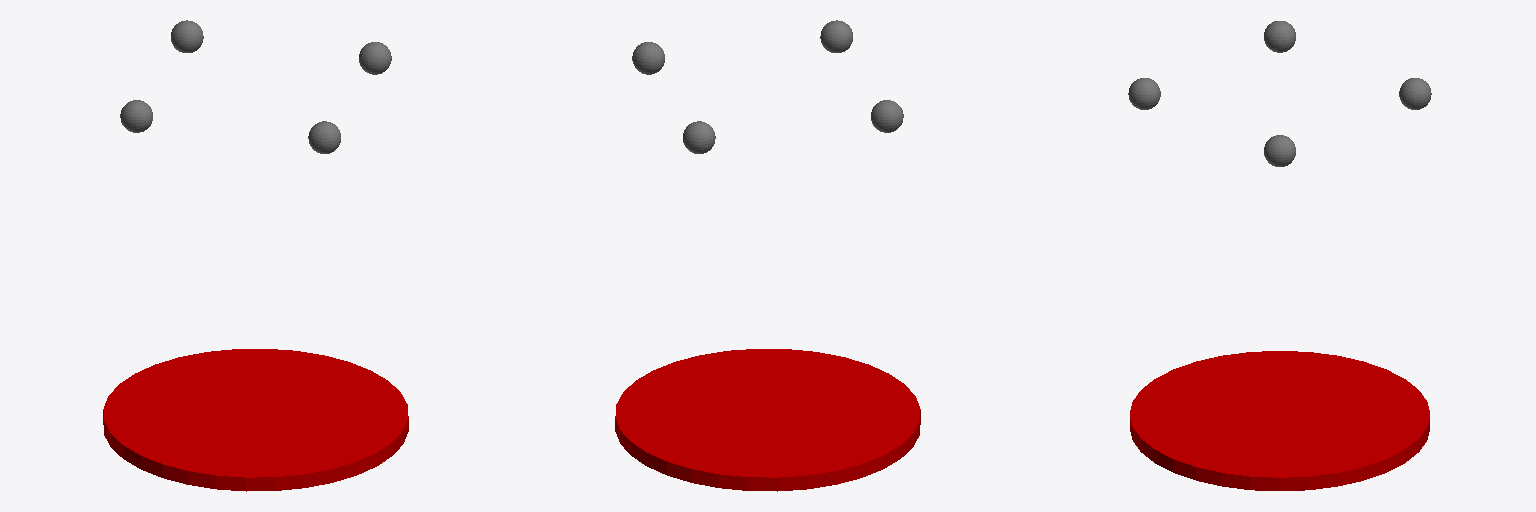
The robot description file, URDF, robot "robot":
<robot name="robot">

    <link name="base_link">
        <visual>
            <geometry>
                <cylinder length="0.05" radius="0.5"/>
            </geometry>
            <material name="red">
                <color rgba="0.8 0 0 0.6"/>
            </material>
            <origin rpy="0 0 0" xyz="0. 0 0"/>
        </visual>
        <collision>
            <geometry>
                <cylinder length="0.05" radius="0.5"/>
            </geometry>
            <origin rpy="0 0 0" xyz="0. 0 0"/>
        </collision>
        <inertial>
            <mass value="1."/>
            <inertia ixx="0.1" ixy="0.0" ixz="0.0" iyy="0.1" iyz="0.0" izz="0.1"/>
        </inertial>
    </link>
    
    <link name="f1_link1">
        <visual>
            <geometry>
                <capsule length="0.2" radius="0.05"/>
            </geometry>
            <material name="red">
                <color rgba="0.8 0 0 1"/>
            </material>
            <origin rpy="0 0 0" xyz="0 0 0.1"/>
        </visual>
        <collision>
            <geometry>
                <capsule length="0.2" radius="0.05"/>
            </geometry>
            <origin rpy="0 0 0" xyz="0 0 0.1"/>
        </collision>
        <inertial>
            <mass value="1."/>
            <inertia ixx="1.0" ixy="0.0" ixz="0.0" iyy="1.0" iyz="0.0" izz="1.0"/>
        </inertial>
    </link>
    
    <link name="f1_link2">
        <visual>
            <geometry>
                <capsule length="0.5" radius="0.05"/>
            </geometry>
            <material name="green">
                <color rgba="0 0.8 0 1"/>
            </material>
            <origin rpy="0 0 0" xyz="0 0 0.25"/>
        </visual>
        <collision>
            <geometry>
                <capsule length="0.5" radius="0.05"/>
            </geometry>
            <origin rpy="0 0 0" xyz="0 0 0.25"/>
        </collision>
        <inertial>
            <mass value="1."/>
            <inertia ixx="1.0" ixy="0.0" ixz="0.0" iyy="1.0" iyz="0.0" izz="1.0"/>
        </inertial>
    </link>

    <link name="f1_link3">
        <visual>
            <geometry>
                <capsule length="0.5" radius="0.05"/>
            </geometry>
            <material name="blue">
                <color rgba="0 0 0.8 1"/>
            </material>
            <origin rpy="0 0 0" xyz="0 0 0.25"/>
        </visual>
        <collision>
            <geometry>
                <capsule length="0.5" radius="0.05"/>
            </geometry>
            <origin rpy="0 0 0" xyz="0 0 0.25"/>
        </collision>
        <inertial>
            <mass value="1."/>
            <inertia ixx="1.0" ixy="0.0" ixz="0.0" iyy="1.0" iyz="0.0" izz="1.0"/>
        </inertial>
    </link>

    <link name="f1_eePoint">
        <visual>
            <geometry>
                <sphere  radius="0.054"/>
            </geometry>
            <material name="grey">
                <color rgba="0.5 0.5 0.5 1"/>
            </material>
            <origin rpy="0 0 0" xyz="0 0 0.0"/>
        </visual>
        <collision>
            <geometry>
                <sphere radius="0.054"/>
            </geometry>
            <origin rpy="0 0 0" xyz="0 0 0.0"/>
        </collision>
        <inertial>
            <mass value="0.001"/>
            <inertia ixx="1.0" ixy="0.0" ixz="0.0" iyy="1.0" iyz="0.0" izz="1.0"/>
        </inertial>
    </link>

    <link name="f2_link1">
        <visual>
            <geometry>
                <capsule length="0.2" radius="0.05"/>
            </geometry>
            <material name="red">
                <color rgba="0.8 0 0 1"/>
            </material>
            <origin rpy="0 0 0" xyz="0 0 0.1"/>
        </visual>
        <collision>
            <geometry>
                <capsule length="0.2" radius="0.05"/>
            </geometry>
            <origin rpy="0 0 0" xyz="0 0 0.1"/>
        </collision>
        <inertial>
            <mass value="1."/>
            <inertia ixx="1.0" ixy="0.0" ixz="0.0" iyy="1.0" iyz="0.0" izz="1.0"/>
        </inertial>
    </link>
    
    <link name="f2_link2">
        <visual>
            <geometry>
                <capsule length="0.5" radius="0.05"/>
            </geometry>
            <material name="green">
                <color rgba="0 0.8 0 1"/>
            </material>
            <origin rpy="0 0 0" xyz="0 0 0.25"/>
        </visual>
        <collision>
            <geometry>
                <capsule length="0.5" radius="0.05"/>
            </geometry>
            <origin rpy="0 0 0" xyz="0 0 0.25"/>
        </collision>
        <inertial>
            <mass value="1."/>
            <inertia ixx="1.0" ixy="0.0" ixz="0.0" iyy="1.0" iyz="0.0" izz="1.0"/>
        </inertial>
    </link>

    <link name="f2_link3">
        <visual>
            <geometry>
                <capsule length="0.5" radius="0.05"/>
            </geometry>
            <material name="blue">
                <color rgba="0 0 0.8 1"/>
            </material>
            <origin rpy="0 0 0" xyz="0 0 0.25"/>
        </visual>
        <collision>
            <geometry>
                <capsule length="0.5" radius="0.05"/>
            </geometry>
            <origin rpy="0 0 0" xyz="0 0 0.25"/>
        </collision>
        <inertial>
            <mass value="1."/>
            <inertia ixx="1.0" ixy="0.0" ixz="0.0" iyy="1.0" iyz="0.0" izz="1.0"/>
        </inertial>
    </link>

    <link name="f2_eePoint">
        <visual>
            <geometry>
                <sphere  radius="0.054"/>
            </geometry>
            <material name="grey">
                <color rgba="0.5 0.5 0.5 1"/>
            </material>
            <origin rpy="0 0 0" xyz="0 0 0.0"/>
        </visual>
        <collision>
            <geometry>
                <sphere radius="0.054"/>
            </geometry>
            <origin rpy="0 0 0" xyz="0 0 0.0"/>
        </collision>
        <inertial>
            <mass value="0.001"/>
            <inertia ixx="1.0" ixy="0.0" ixz="0.0" iyy="1.0" iyz="0.0" izz="1.0"/>
        </inertial>
    </link>

    <link name="f3_link1">
        <visual>
            <geometry>
                <capsule length="0.2" radius="0.05"/>
            </geometry>
            <material name="red">
                <color rgba="0.8 0 0 1"/>
            </material>
            <origin rpy="0 0 0" xyz="0 0 0.1"/>
        </visual>
        <collision>
            <geometry>
                <capsule length="0.2" radius="0.05"/>
            </geometry>
            <origin rpy="0 0 0" xyz="0 0 0.1"/>
        </collision>
        <inertial>
            <mass value="1."/>
            <inertia ixx="1.0" ixy="0.0" ixz="0.0" iyy="1.0" iyz="0.0" izz="1.0"/>
        </inertial>
    </link>
    
    <link name="f3_link2">
        <visual>
            <geometry>
                <capsule length="0.5" radius="0.05"/>
            </geometry>
            <material name="green">
                <color rgba="0 0.8 0 1"/>
            </material>
            <origin rpy="0 0 0" xyz="0 0 0.25"/>
        </visual>
        <collision>
            <geometry>
                <capsule length="0.5" radius="0.05"/>
            </geometry>
            <origin rpy="0 0 0" xyz="0 0 0.25"/>
        </collision>
        <inertial>
            <mass value="1."/>
            <inertia ixx="1.0" ixy="0.0" ixz="0.0" iyy="1.0" iyz="0.0" izz="1.0"/>
        </inertial>
    </link>

    <link name="f3_link3">
        <visual>
            <geometry>
                <capsule length="0.5" radius="0.05"/>
            </geometry>
            <material name="blue">
                <color rgba="0 0 0.8 1"/>
            </material>
            <origin rpy="0 0 0" xyz="0 0 0.25"/>
        </visual>
        <collision>
            <geometry>
                <capsule length="0.5" radius="0.05"/>
            </geometry>
            <origin rpy="0 0 0" xyz="0 0 0.25"/>
        </collision>
        <inertial>
            <mass value="1."/>
            <inertia ixx="1.0" ixy="0.0" ixz="0.0" iyy="1.0" iyz="0.0" izz="1.0"/>
        </inertial>
    </link>

    <link name="f3_eePoint">
        <visual>
            <geometry>
                <sphere  radius="0.054"/>
            </geometry>
            <material name="grey">
                <color rgba="0.5 0.5 0.5 1"/>
            </material>
            <origin rpy="0 0 0" xyz="0 0 0.0"/>
        </visual>
        <collision>
            <geometry>
                <sphere radius="0.054"/>
            </geometry>
            <origin rpy="0 0 0" xyz="0 0 0.0"/>
        </collision>
        <inertial>
            <mass value="0.001"/>
            <inertia ixx="1.0" ixy="0.0" ixz="0.0" iyy="1.0" iyz="0.0" izz="1.0"/>
        </inertial>
    </link>

    <link name="f4_link1">
        <visual>
            <geometry>
                <capsule length="0.2" radius="0.05"/>
            </geometry>
            <material name="red">
                <color rgba="0.8 0 0 1"/>
            </material>
            <origin rpy="0 0 0" xyz="0 0 0.1"/>
        </visual>
        <collision>
            <geometry>
                <capsule length="0.2" radius="0.05"/>
            </geometry>
            <origin rpy="0 0 0" xyz="0 0 0.1"/>
        </collision>
        <inertial>
            <mass value="1."/>
            <inertia ixx="1.0" ixy="0.0" ixz="0.0" iyy="1.0" iyz="0.0" izz="1.0"/>
        </inertial>
    </link>
    
    <link name="f4_link2">
        <visual>
            <geometry>
                <capsule length="0.5" radius="0.05"/>
            </geometry>
            <material name="green">
                <color rgba="0 0.8 0 1"/>
            </material>
            <origin rpy="0 0 0" xyz="0 0 0.25"/>
        </visual>
        <collision>
            <geometry>
                <capsule length="0.5" radius="0.05"/>
            </geometry>
            <origin rpy="0 0 0" xyz="0 0 0.25"/>
        </collision>
        <inertial>
            <mass value="1."/>
            <inertia ixx="1.0" ixy="0.0" ixz="0.0" iyy="1.0" iyz="0.0" izz="1.0"/>
        </inertial>
    </link>

    <link name="f4_link3">
        <visual>
            <geometry>
                <capsule length="0.5" radius="0.05"/>
            </geometry>
            <material name="blue">
                <color rgba="0 0 0.8 1"/>
            </material>
            <origin rpy="0 0 0" xyz="0 0 0.25"/>
        </visual>
        <collision>
            <geometry>
                <capsule length="0.5" radius="0.05"/>
            </geometry>
            <origin rpy="0 0 0" xyz="0 0 0.25"/>
        </collision>
        <inertial>
            <mass value="1."/>
            <inertia ixx="1.0" ixy="0.0" ixz="0.0" iyy="1.0" iyz="0.0" izz="1.0"/>
        </inertial>
    </link>

    <link name="f4_eePoint">
        <visual>
            <geometry>
                <sphere  radius="0.054"/>
            </geometry>
            <material name="grey">
                <color rgba="0.5 0.5 0.5 1"/>
            </material>
            <origin rpy="0 0 0" xyz="0 0 0.0"/>
        </visual>
        <collision>
            <geometry>
                <sphere radius="0.054"/>
            </geometry>
            <origin rpy="0 0 0" xyz="0 0 0.0"/>
        </collision>
        <inertial>
            <mass value="0.001"/>
            <inertia ixx="1.0" ixy="0.0" ixz="0.0" iyy="1.0" iyz="0.0" izz="1.0"/>
        </inertial>
    </link>

    <joint name="f1_joint1" type="revolute">
        <parent link="base_link"/>
        <child link="f1_link1"/>
        <origin xyz="0.45 0 0." rpy="0 0 0" />
        <axis xyz = "1 0 0" />
        <dynamics damping="0.0" friction="0.0"/>
        <limit effort="300" velocity="1.0" lower="-0.84819" upper="0.84819" />
    </joint>

    <joint name="f1_joint2" type="revolute">
        <parent link="f1_link1"/>
        <child link="f1_link2"/>
        <origin xyz="0 0 0.2" rpy="0 0 0" />
        <axis xyz = "0 1 0" />
        <dynamics damping="0.0" friction="0.0"/>
        <limit effort="300" velocity="1.0" lower="-1.21619" upper="1.21619" />
    </joint>

    <joint name="f1_joint3" type="revolute">
        <parent link="f1_link2"/>
        <child link="f1_link3"/>
        <origin xyz="0 0 0.5" rpy="0 0 0" />
        <axis xyz = "0 1 0" />
        <dynamics damping="0.0" friction="0.0"/>
        <limit effort="300" velocity="1.0" lower="-1.97019" upper="2.200" />
    </joint>

    <joint name="f1_joint4" type="fixed">
        <parent link="f1_link3"/>
        <child link="f1_eePoint"/>
        <origin xyz="0. 0. 0.5"/>
    </joint>

    <joint name="f2_joint1" type="revolute">
        <parent link="base_link"/>
        <child link="f2_link1"/>
        <origin xyz="0 0.45 0" rpy="0 0 1.5707963267948966" />
        <axis xyz = "1 0 0" />
        <dynamics damping="0.0" friction="0.0"/>
        <limit effort="300" velocity="1.0" lower="-0.84819" upper="0.84819" />
    </joint>

    <joint name="f2_joint2" type="revolute">
        <parent link="f2_link1"/>
        <child link="f2_link2"/>
        <origin xyz="0 0 0.2" rpy="0 0 0" />
        <axis xyz = "0 1 0" />
        <dynamics damping="0.0" friction="0.0"/>
        <limit effort="300" velocity="1.0" lower="-1.21619" upper="1.21619" />
    </joint>

    <joint name="f2_joint3" type="revolute">
        <parent link="f2_link2"/>
        <child link="f2_link3"/>
        <origin xyz="0 0 0.5" rpy="0 0 0" />
        <axis xyz = "0 1 0" />
        <dynamics damping="0.0" friction="0.0"/>
        <limit effort="300" velocity="1.0" lower="-1.97019" upper="2.200" />
    </joint>

    <joint name="f2_joint4" type="fixed">
        <parent link="f2_link3"/>
        <child link="f2_eePoint"/>
        <origin xyz="0. 0. 0.5"/>
    </joint>

    <joint name="f3_joint1" type="revolute">
        <parent link="base_link"/>
        <child link="f3_link1"/>
        <origin xyz="-0.45 0 0" rpy="0 0 3.14159" />
        <axis xyz = "1 0 0" />
        <dynamics damping="0.0" friction="0.0"/>
        <limit effort="300" velocity="1.0" lower="-0.84819" upper="0.84819" />
    </joint>

    <joint name="f3_joint2" type="revolute">
        <parent link="f3_link1"/>
        <child link="f3_link2"/>
        <origin xyz="0 0 0.2" rpy="0 0 0" />
        <axis xyz = "0 1 0" />
        <dynamics damping="0.0" friction="0.0"/>
        <limit effort="300" velocity="1.0" lower="-1.21619" upper="1.21619" />
    </joint>

    <joint name="f3_joint3" type="revolute">
        <parent link="f3_link2"/>
        <child link="f3_link3"/>
        <origin xyz="0 0 0.5" rpy="0 0 0" />
        <axis xyz = "0 1 0" />
        <dynamics damping="0.0" friction="0.0"/>
        <limit effort="300" velocity="1.0" lower="-1.97019" upper="2.200" />
    </joint>

    <joint name="f3_joint4" type="fixed">
        <parent link="f3_link3"/>
        <child link="f3_eePoint"/>
        <origin xyz="0. 0. 0.5"/>
    </joint>

    <joint name="f4_joint1" type="revolute">
        <parent link="base_link"/>
        <child link="f4_link1"/>
        <origin xyz="0 -0.45 0" rpy="0 0 -1.5707963267948966" />
        <axis xyz = "1 0 0" />
        <dynamics damping="0.0" friction="0.0"/>
        <limit effort="300" velocity="1.0" lower="-0.84819" upper="0.84819" />
    </joint>

    <joint name="f4_joint2" type="revolute">
        <parent link="f4_link1"/>
        <child link="f4_link2"/>
        <origin xyz="0 0 0.2" rpy="0 0 0" />
        <axis xyz = "0 1 0" />
        <dynamics damping="0.0" friction="0.0"/>
        <limit effort="300" velocity="1.0" lower="-1.21619" upper="1.21619" />
    </joint>

    <joint name="f4_joint3" type="revolute">
        <parent link="f4_link2"/>
        <child link="f4_link3"/>
        <origin xyz="0 0 0.5" rpy="0 0 0" />
        <axis xyz = "0 1 0" />
        <dynamics damping="0.0" friction="0.0"/>
        <limit effort="300" velocity="1.0" lower="-1.97019" upper="2.200" />
    </joint>

    <joint name="f4_joint4" type="fixed">
        <parent link="f4_link3"/>
        <child link="f4_eePoint"/>
        <origin xyz="0. 0. 0.5"/>
    </joint>  

</robot>

--- Facts derived from the render (not from the file) ---
The picture shows the robot from 3 angles, left to right: view 1: azimuth 30°, elevation 25°; view 2: azimuth 150°, elevation 25°; view 3: azimuth 270°, elevation 25°; orthographic projection.
Model robot with 17 links and 16 joints (12 revolute, 4 fixed), rooted at base_link, posed all joints at 0.
Links seen in each view (by area): view 1: base_link, f2_eePoint, f1_eePoint, f3_eePoint, f4_eePoint; view 2: base_link, f4_eePoint, f1_eePoint, f3_eePoint, f2_eePoint; view 3: base_link, f2_eePoint, f3_eePoint, f4_eePoint, f1_eePoint.
Boxes of the visible links, x1=… form: base_link: x1=103, y1=349, x2=408, y2=491; f2_eePoint: x1=171, y1=20, x2=203, y2=52; f1_eePoint: x1=359, y1=42, x2=391, y2=74; f3_eePoint: x1=120, y1=100, x2=152, y2=132; f4_eePoint: x1=308, y1=121, x2=340, y2=153; base_link: x1=615, y1=349, x2=920, y2=491; f4_eePoint: x1=820, y1=20, x2=852, y2=52; f1_eePoint: x1=632, y1=42, x2=664, y2=74; f3_eePoint: x1=871, y1=100, x2=903, y2=132; f2_eePoint: x1=683, y1=121, x2=715, y2=153; base_link: x1=1130, y1=351, x2=1429, y2=490; f2_eePoint: x1=1399, y1=78, x2=1431, y2=109; f3_eePoint: x1=1264, y1=21, x2=1295, y2=52; f4_eePoint: x1=1128, y1=78, x2=1160, y2=109; f1_eePoint: x1=1264, y1=135, x2=1295, y2=166.
Bounding box of the posed robot: 1.01 × 1.01 × 1.28 m (x, y, z).
Geometry: primitives only (box / cylinder / sphere), no mesh files.